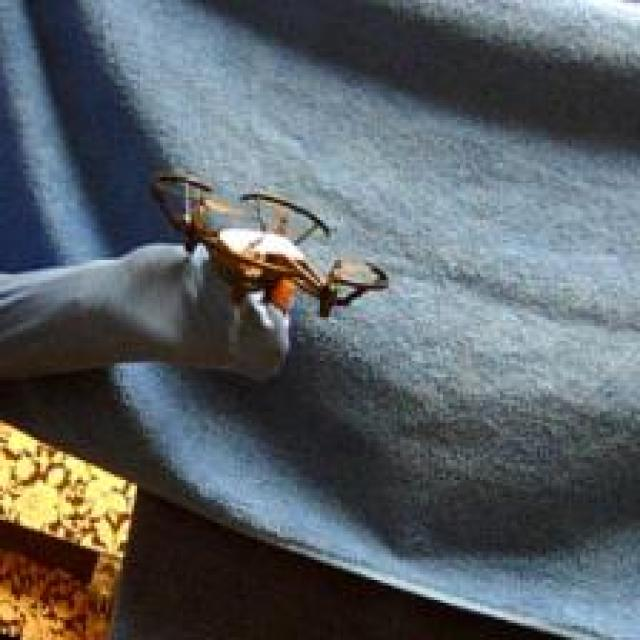drone: (143, 170, 397, 324)
